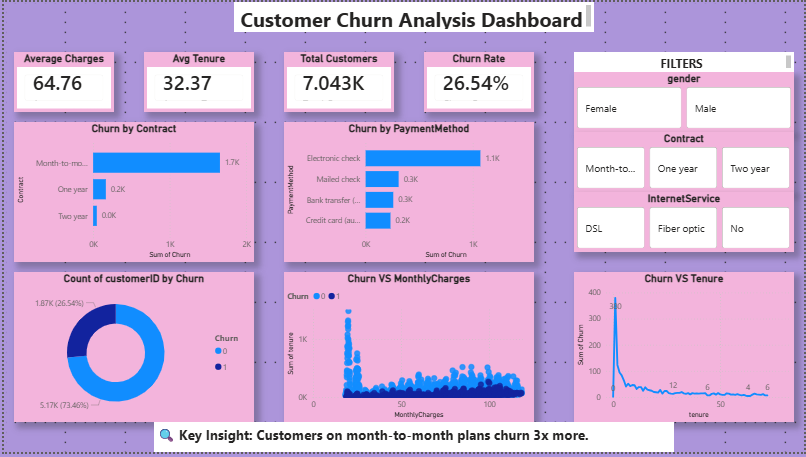

This screenshot's page, from the dashboard's own definition file:
{"tool":"powerbi","page":{"name":"Page 1","canvas":[1280,720],"ordinal":0},"visuals":[{"type":"textbox","box":[368,0,576,48],"z":0},{"type":"cardVisual","title":"Total Customers","fields":{"Data":["CountNonNull(CustomerChurn.customerID)"]},"box":[448,80,176,96],"z":1000},{"type":"cardVisual","title":"Churn Rate","fields":{"Data":["CustomerChurn.Churn Rate1"]},"box":[672,80,176,96],"z":2000},{"type":"cardVisual","title":"Avg Tenure","fields":{"Data":["Avg(CustomerChurn.tenure)"]},"box":[224,80,176,96],"z":3000},{"type":"cardVisual","title":"Average Charges","fields":{"Data":["Avg(CustomerChurn.MonthlyCharges)"]},"box":[16,80,160,96],"z":4000},{"type":"clusteredBarChart","title":"Churn by Contract","fields":{"Category":["CustomerChurn.Contract"],"Y":["Sum(CustomerChurn.Churn)"]},"box":[16,192,384,224],"z":5000},{"type":"clusteredBarChart","title":"Churn by PaymentMethod","fields":{"Category":["CustomerChurn.PaymentMethod"],"Y":["Sum(CustomerChurn.Churn)"]},"box":[448,192,400,224],"z":6000},{"type":"lineChart","title":"Churn VS Tenure","fields":{"Category":["CustomerChurn.tenure"],"Y":["Sum(CustomerChurn.Churn)"]},"box":[912,432,352,240],"z":7000},{"type":"scatterChart","title":"Churn VS MonthlyCharges","fields":{"X":["CustomerChurn.MonthlyCharges"],"Y":["Sum(CustomerChurn.tenure)"],"Series":["CustomerChurn.Churn"]},"box":[448,432,400,240],"z":7001},{"type":"advancedSlicerVisual","fields":{"Values":["CustomerChurn.gender"]},"box":[912,112,352,96],"z":7002},{"type":"donutChart","fields":{"Category":["CustomerChurn.Churn"],"Y":["CountNonNull(CustomerChurn.customerID)"]},"box":[16,432,384,240],"z":7003},{"type":"advancedSlicerVisual","fields":{"Values":["CustomerChurn.Contract"]},"box":[912,208,352,96],"z":7004},{"type":"advancedSlicerVisual","fields":{"Values":["CustomerChurn.InternetService"]},"box":[912,304,352,96],"z":7005},{"type":"textbox","box":[240,672,832,48],"z":7006},{"type":"textbox","box":[912,80,352,32],"z":7007}]}

Visuals, with their boxes in screenshot pixels (x1, y1, x2, y2), scaled from the page's 1280x720 canvas onto the 806x457 screenshot:
textbox: 232,0,594,30
"Total Customers" cardVisual: 282,51,393,112
"Churn Rate" cardVisual: 423,51,534,112
"Avg Tenure" cardVisual: 141,51,252,112
"Average Charges" cardVisual: 10,51,111,112
"Churn by Contract" clusteredBarChart: 10,122,252,264
"Churn by PaymentMethod" clusteredBarChart: 282,122,534,264
"Churn VS Tenure" lineChart: 574,274,796,427
"Churn VS MonthlyCharges" scatterChart: 282,274,534,427
advancedSlicerVisual - CustomerChurn.gender: 574,71,796,132
donutChart - CustomerChurn.Churn x CountNonNull(CustomerChurn.customerID): 10,274,252,427
advancedSlicerVisual - CustomerChurn.Contract: 574,132,796,193
advancedSlicerVisual - CustomerChurn.InternetService: 574,193,796,254
textbox: 151,427,675,456
textbox: 574,51,796,71
